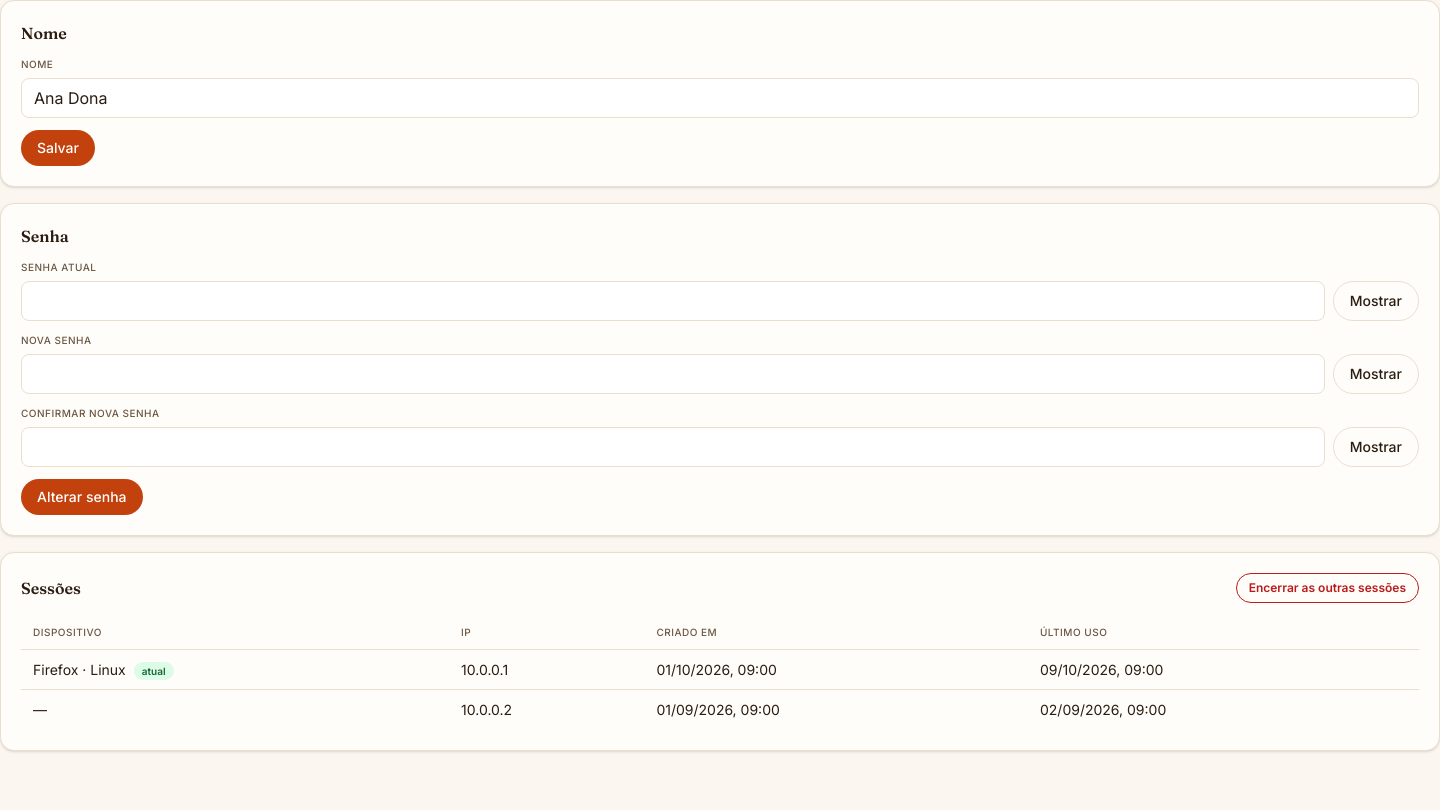
MyAccountSection › refusesMismatchedPasswordsWithoutCallingTheApi
Type "antiga-senha-1" into the password field labelled "Senha atual" at (673, 301), box top-left (21, 281), bottom-right (1325, 321)
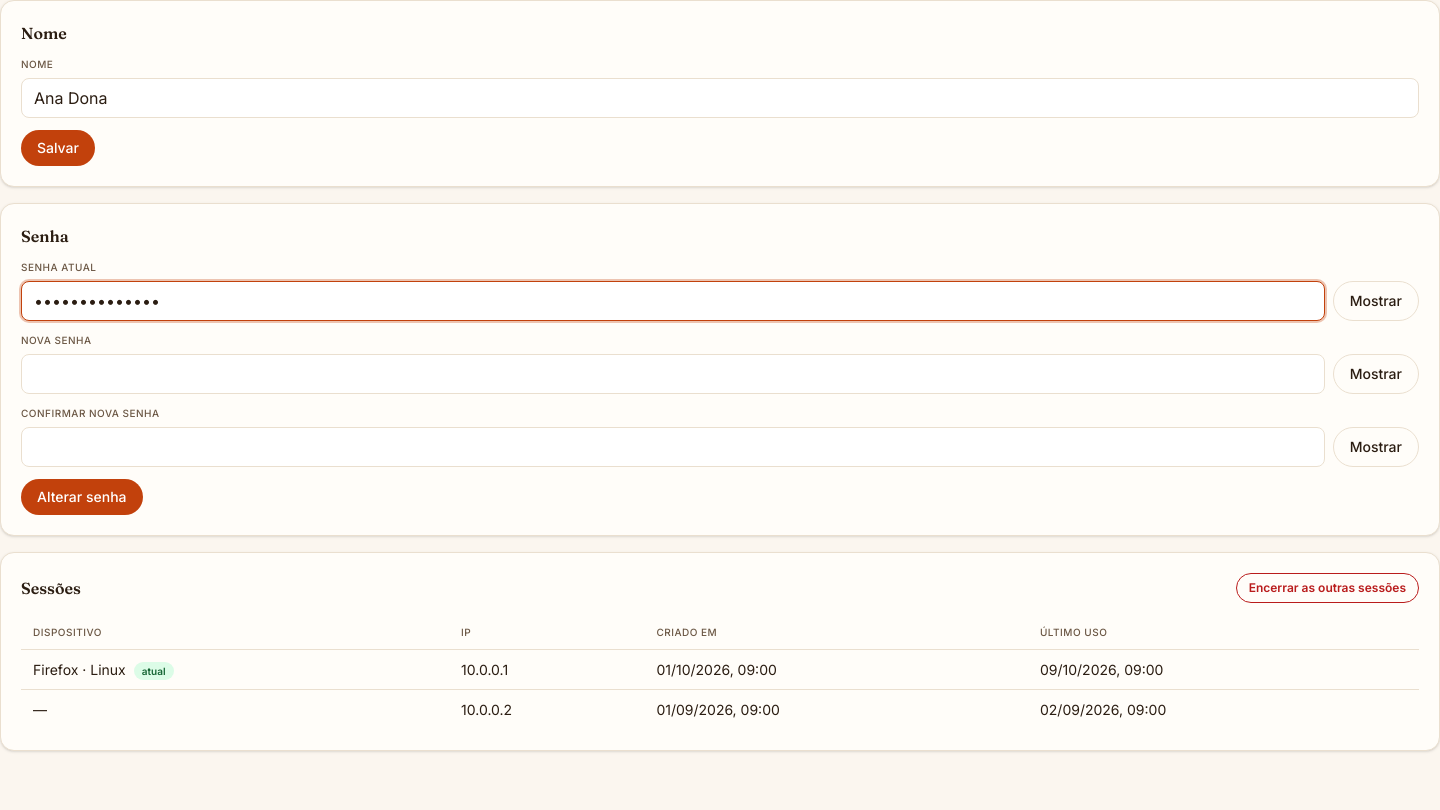
Type "nova-senha-123" into the password field labelled "Nova senha" at (673, 374), box top-left (21, 354), bottom-right (1325, 394)
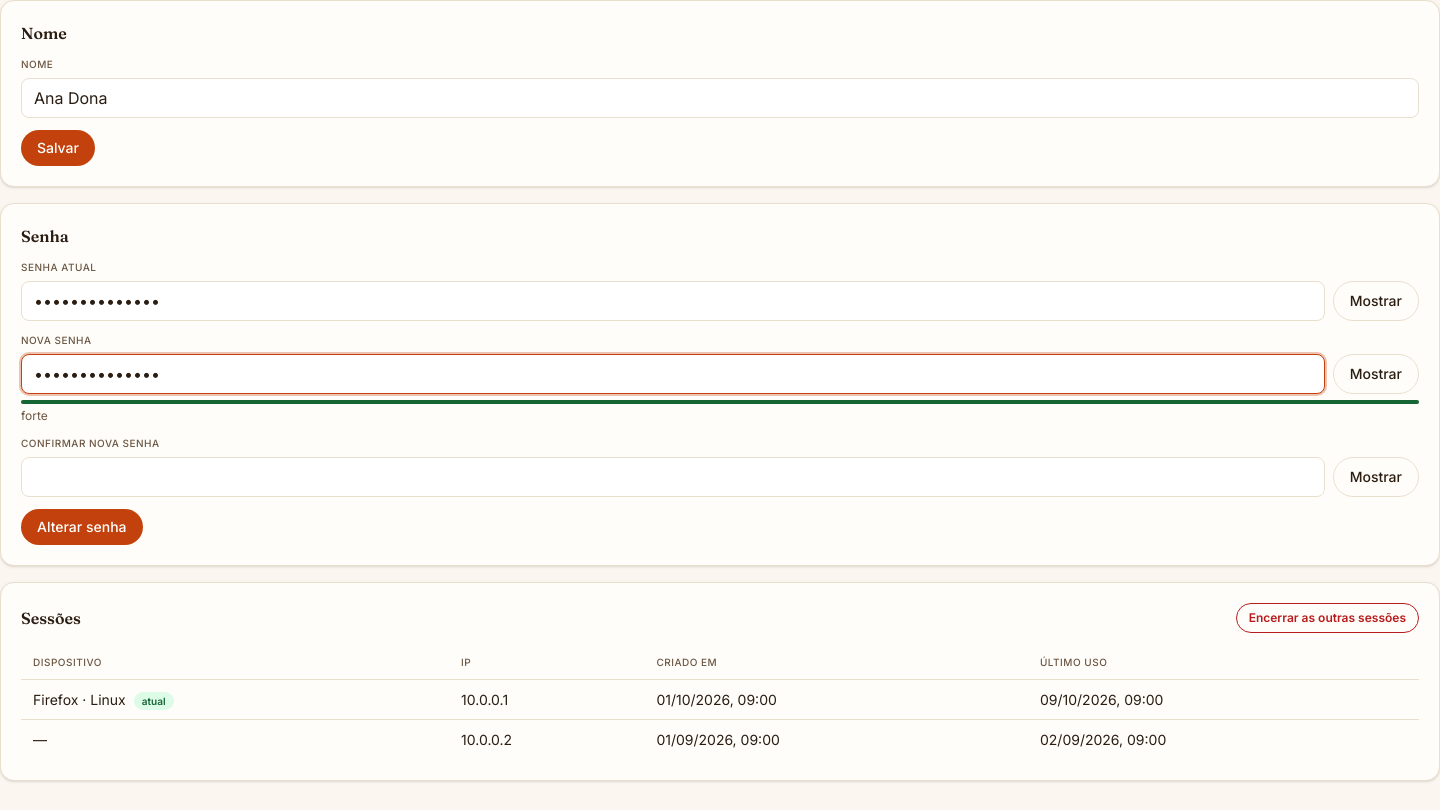
Type "outra-senha-123" into the password field labelled "Confirmar nova senha" at (673, 477), box top-left (21, 457), bottom-right (1325, 497)
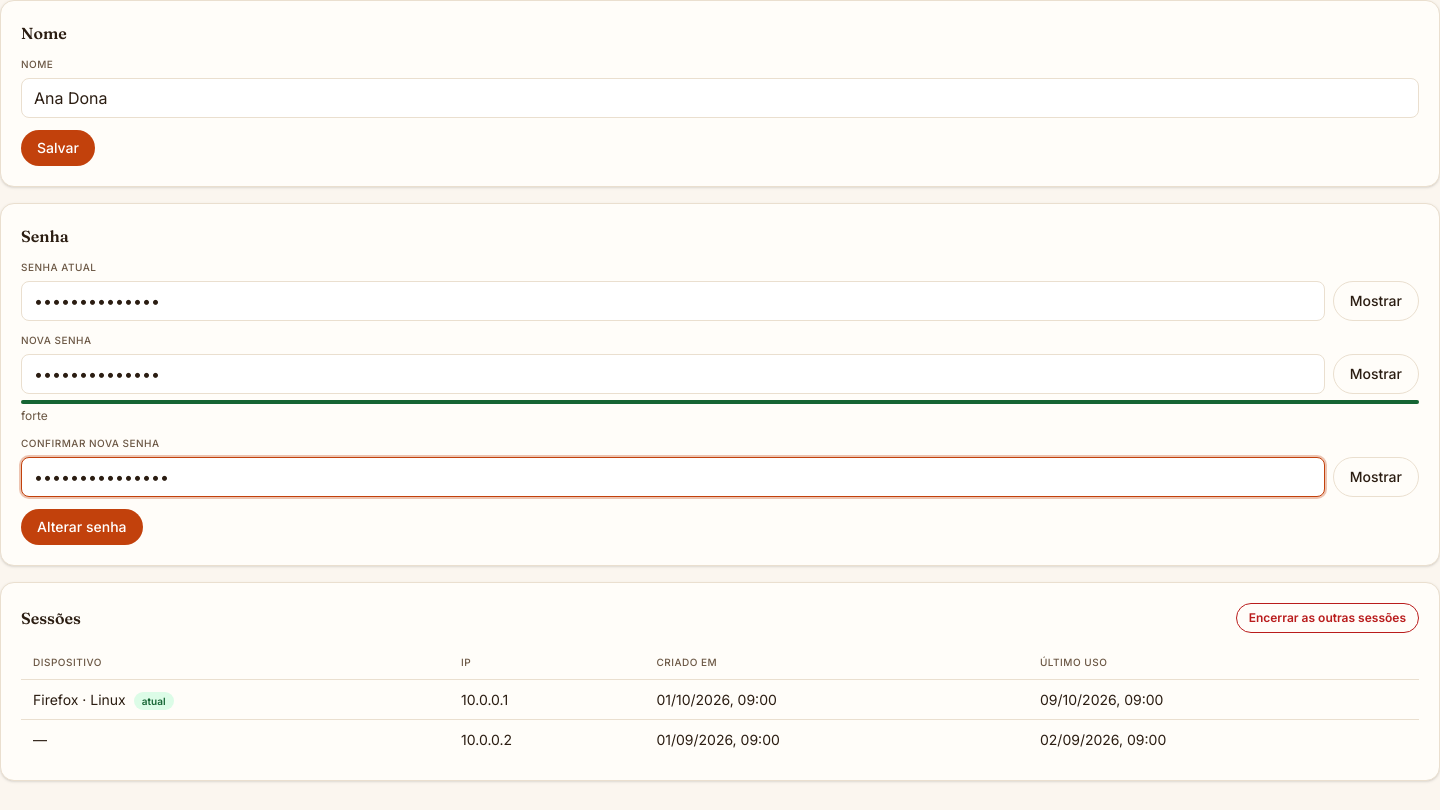
Click the button "Alterar senha" at (82, 527), box top-left (21, 509), bottom-right (142, 545)
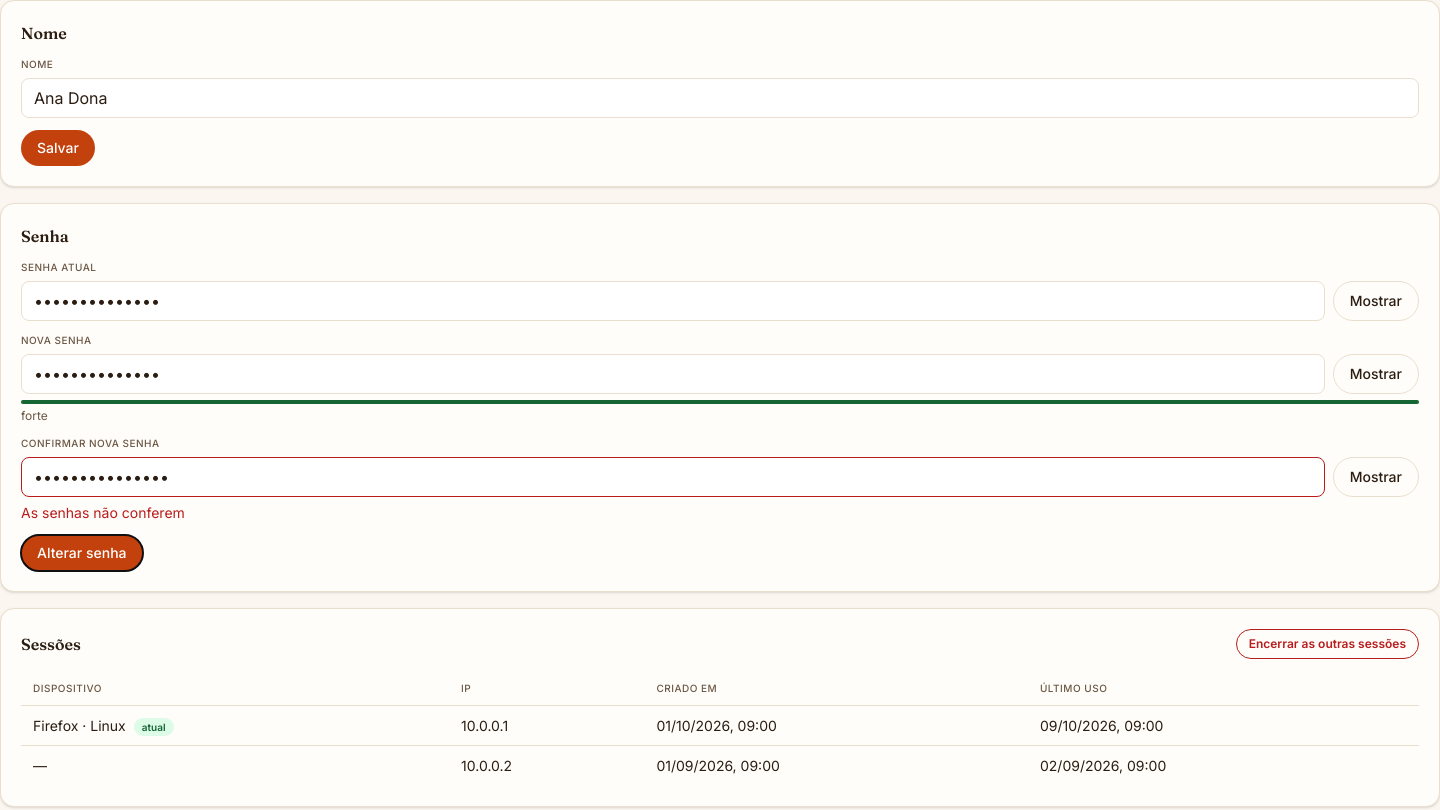
Now the text "As senhas não conferem" is shown, box top-left (21, 504), bottom-right (185, 521)
